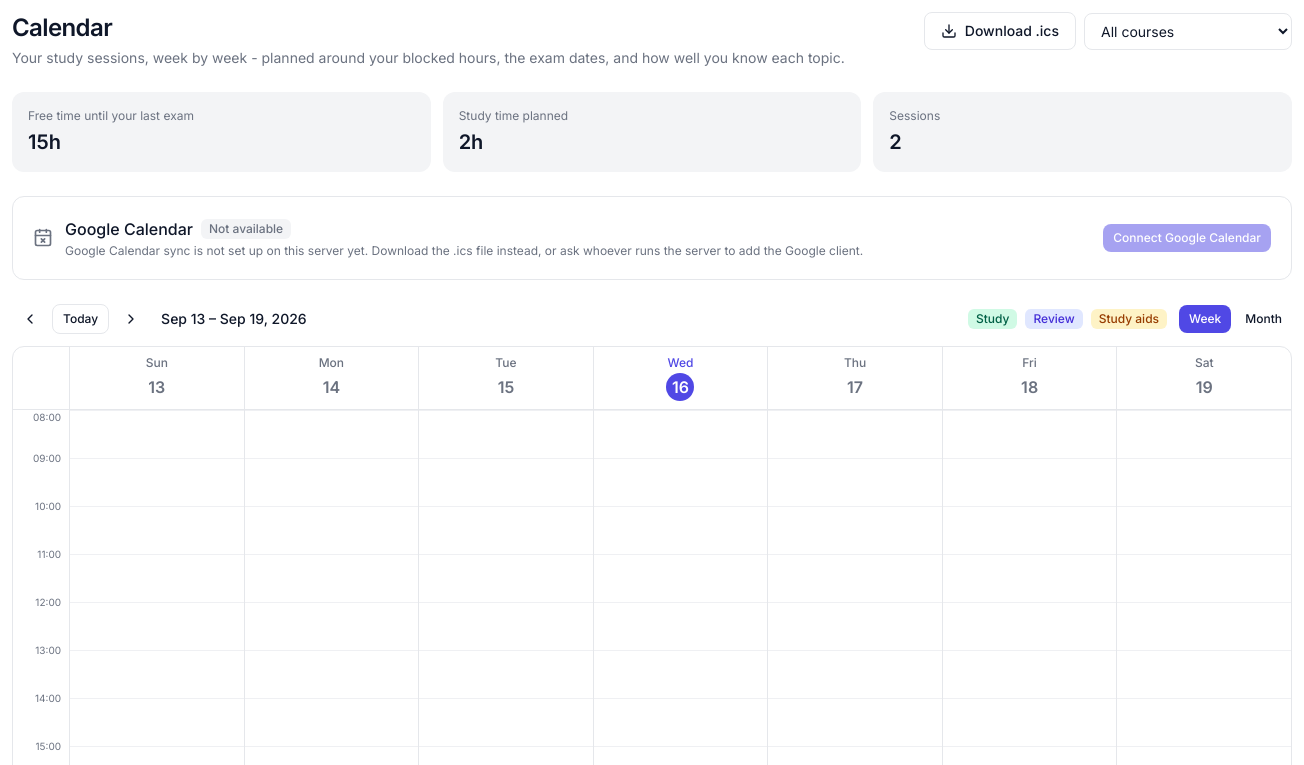
Test case: CalendarPage › switches to a month overview and back to the week of a clicked day
Click the button "Month": (1264, 319) [1235,305,1292,333]
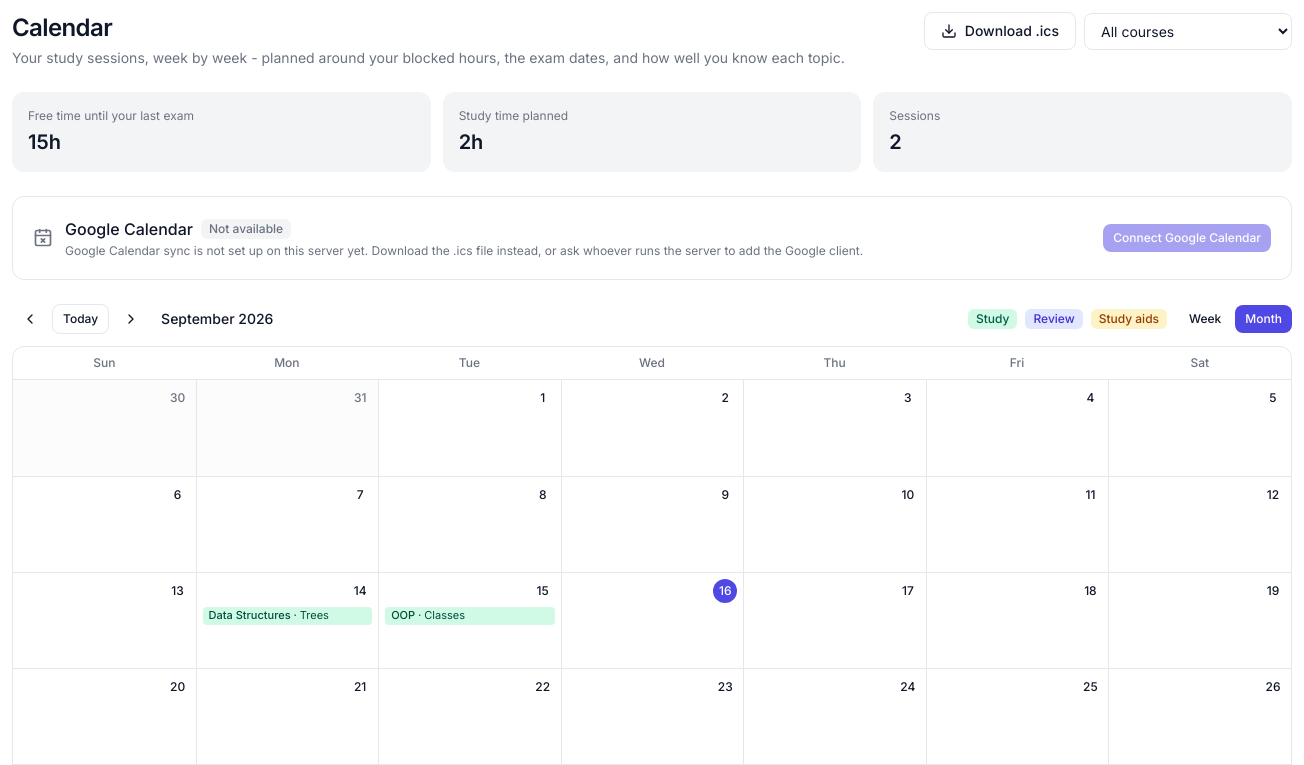
Now the text "September 2026" is shown, box [161,309,273,329]
Now the text "Trees" is shown, box [300,608,329,622]
Now the text "Data Structures ·" is shown, box [209,608,300,622]
Click the button with aria-label "Monday, September 14": (287, 620) [196,572,378,668]
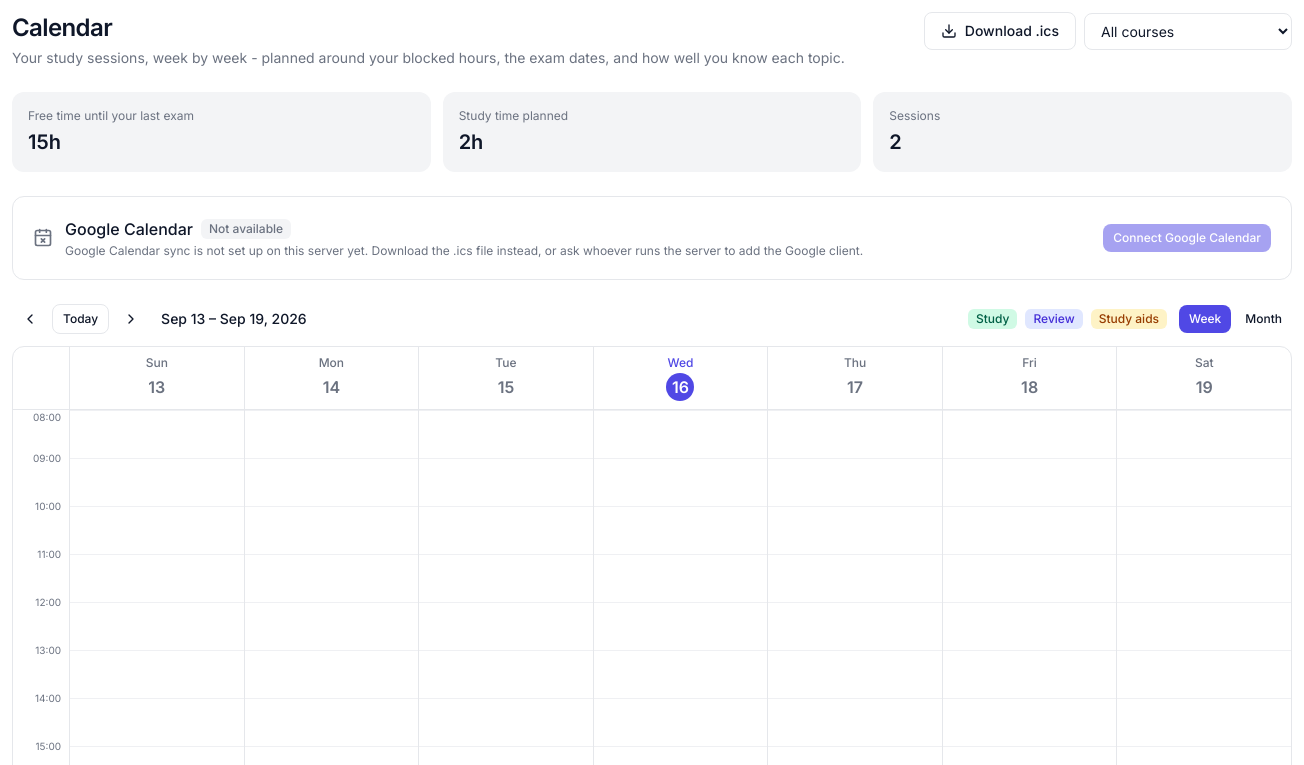
Now the text "Sep 13 – Sep 19, 2026" is shown, box [161,309,307,329]
